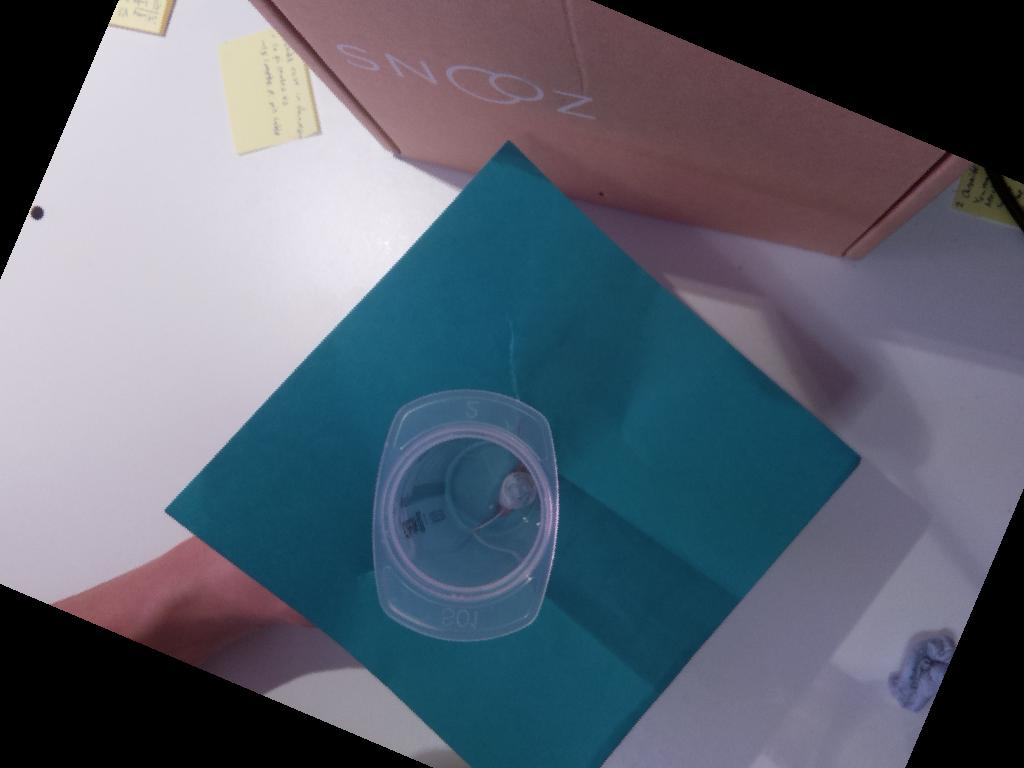clean: (369, 387, 561, 644)
